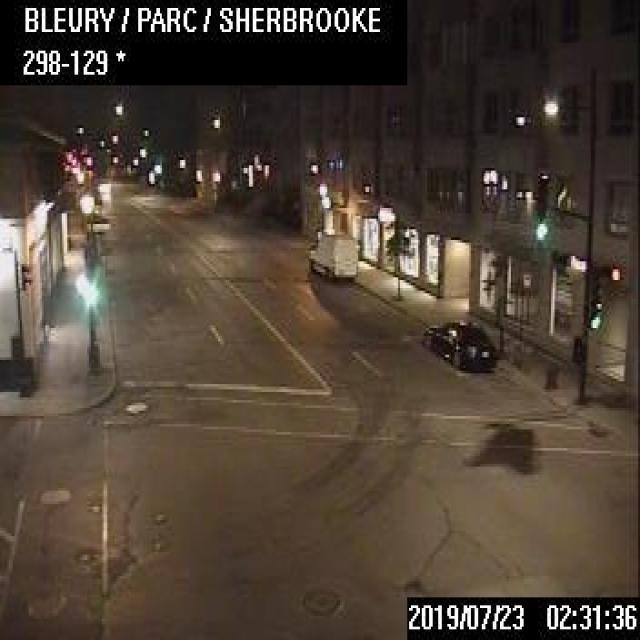vehicle: (420, 317, 495, 371), (306, 230, 356, 278)
